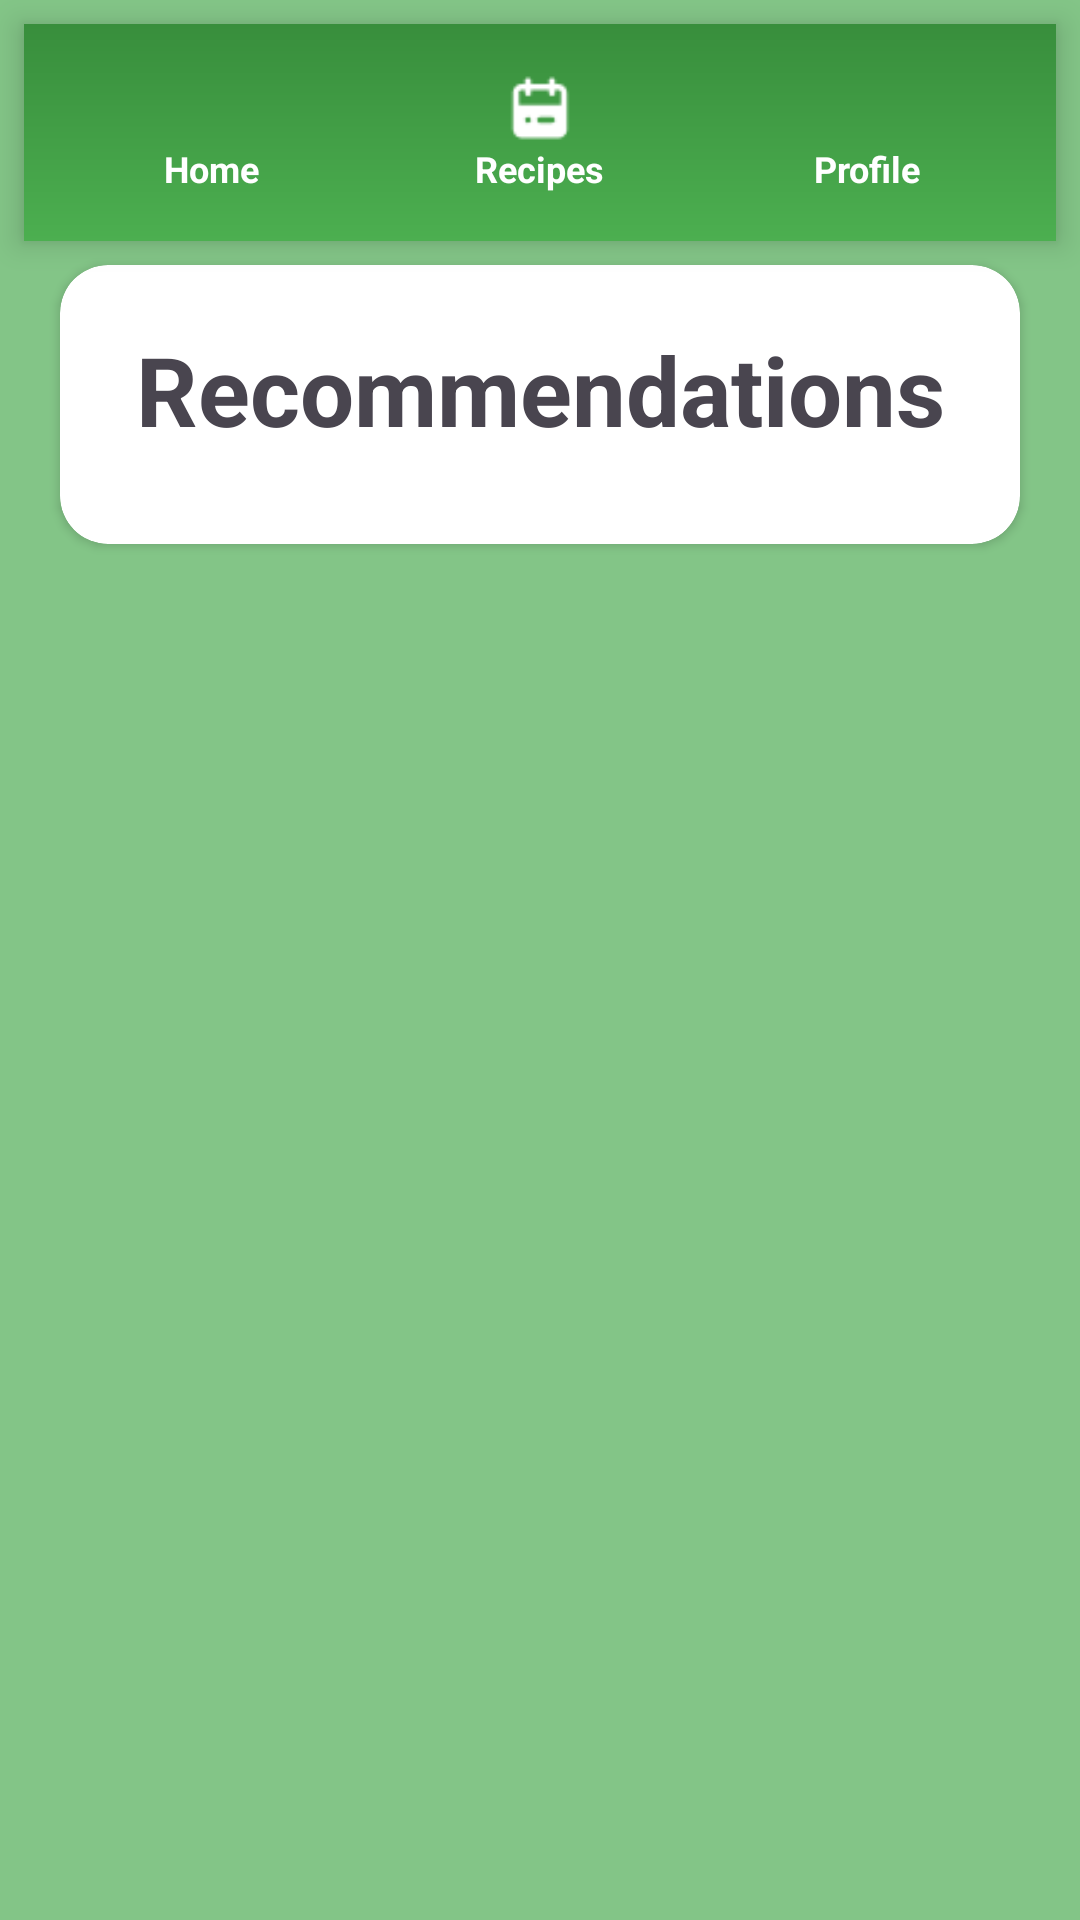

Locate icon controls on the screen. Image size 1080x1920, boxes as box(x1, y1, x2, y2).
Meal Planner: box(511, 76, 569, 140)
